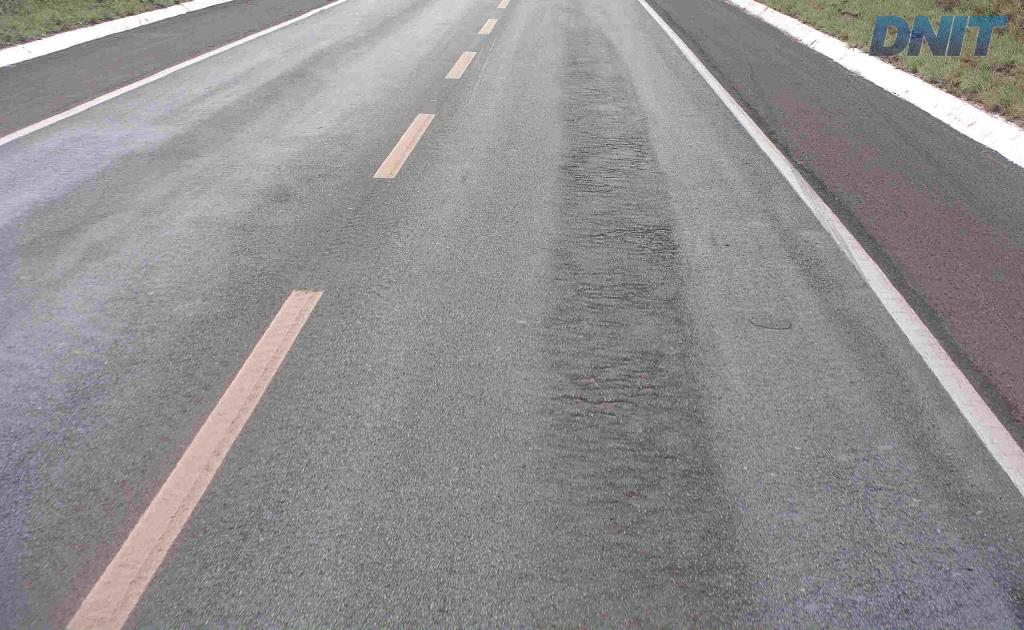crack: (598, 513, 741, 629), (586, 422, 723, 539), (551, 349, 682, 415), (607, 221, 681, 269), (571, 364, 626, 394)
